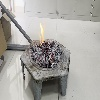fire: (38, 21, 45, 45)
